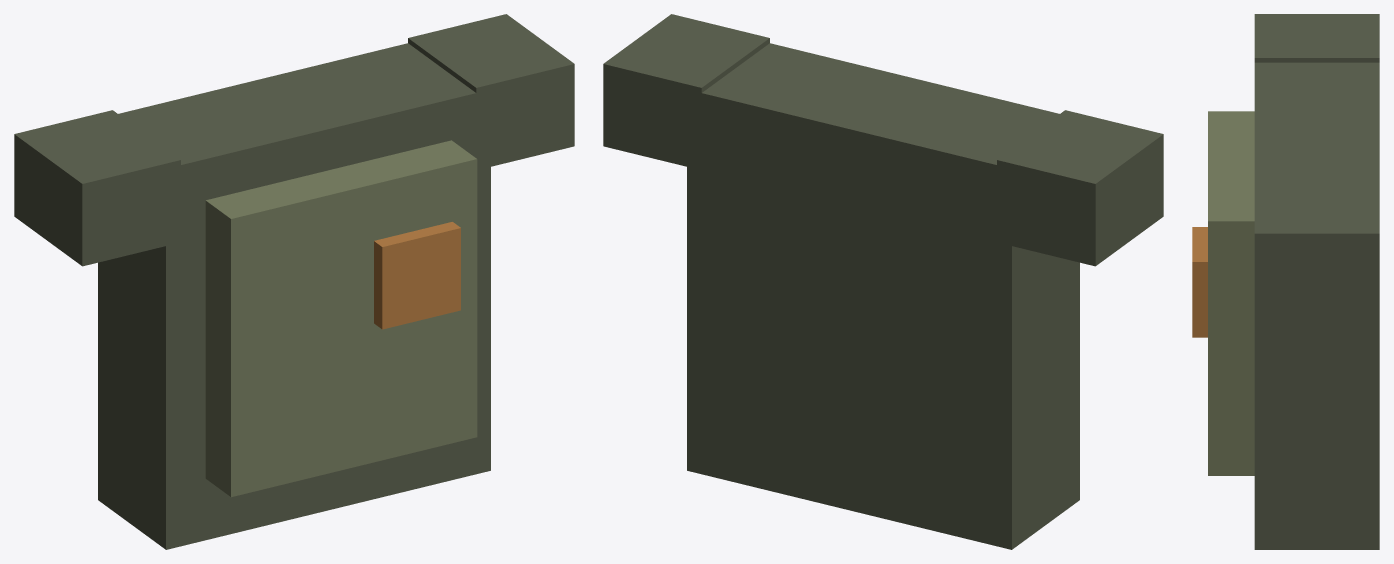
The model's file is item_armour_body_carrier.glb.
3 views of the same model, side by side, from view 1: azimuth 30°, elevation 25°; view 2: azimuth 150°, elevation 25°; view 3: azimuth 270°, elevation 25° (orthographic). The views are drawn at different scales.
Parts seen in each view (by area): view 1: plate, front, shoulder_l, shoulder_r, stencil; view 2: plate, shoulder_l, shoulder_r; view 3: plate, front, shoulder_r, shoulder_l, stencil.
Boxes of the visible parts, bbox=[...] form: plate: bbox=[98, 43, 490, 549]; front: bbox=[205, 140, 477, 497]; shoulder_l: bbox=[14, 110, 180, 266]; shoulder_r: bbox=[408, 14, 574, 166]; stencil: bbox=[374, 222, 460, 329]; plate: bbox=[687, 43, 1079, 549]; shoulder_l: bbox=[997, 110, 1163, 266]; shoulder_r: bbox=[603, 14, 769, 166]; plate: bbox=[1254, 62, 1379, 549]; front: bbox=[1208, 111, 1254, 475]; shoulder_r: bbox=[1254, 190, 1379, 309]; shoulder_l: bbox=[1254, 14, 1379, 62]; stencil: bbox=[1192, 227, 1207, 337].
Bounding box in the file's own units: 1 × 0.75 × 0.36.
